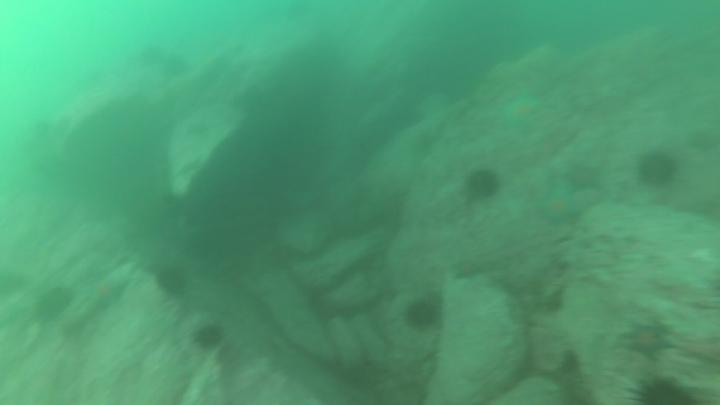echinus: (622, 375, 702, 405), (634, 147, 684, 195), (32, 283, 78, 328), (400, 297, 440, 334), (153, 266, 191, 303), (462, 168, 503, 202), (189, 320, 231, 353)
starfish: (620, 319, 677, 364), (539, 188, 583, 229), (560, 158, 606, 197), (504, 94, 546, 133), (87, 277, 132, 309), (450, 257, 484, 284)
